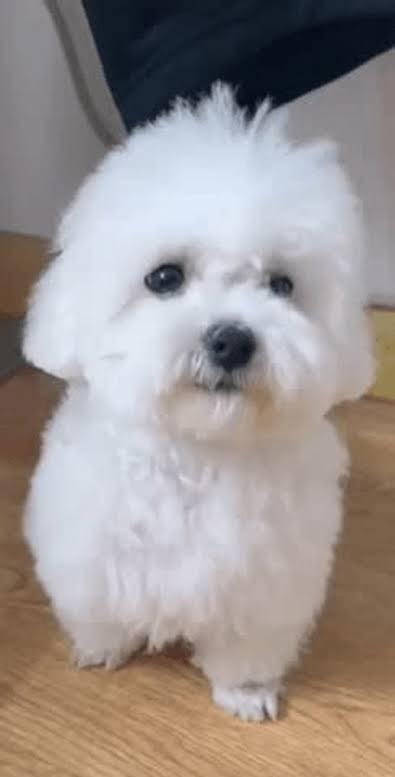puppy-dog: (19, 83, 378, 724)
